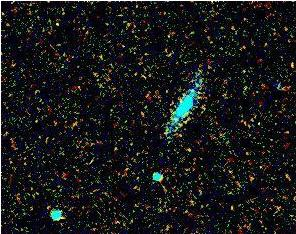star: (171, 136, 201, 166)
